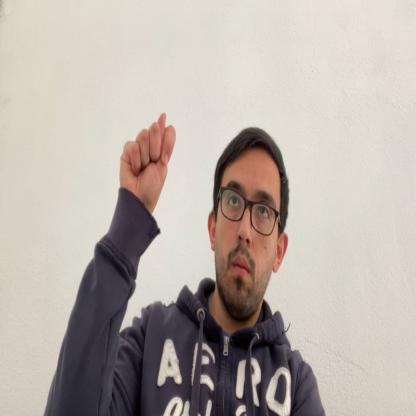T: (120, 112, 175, 213)
